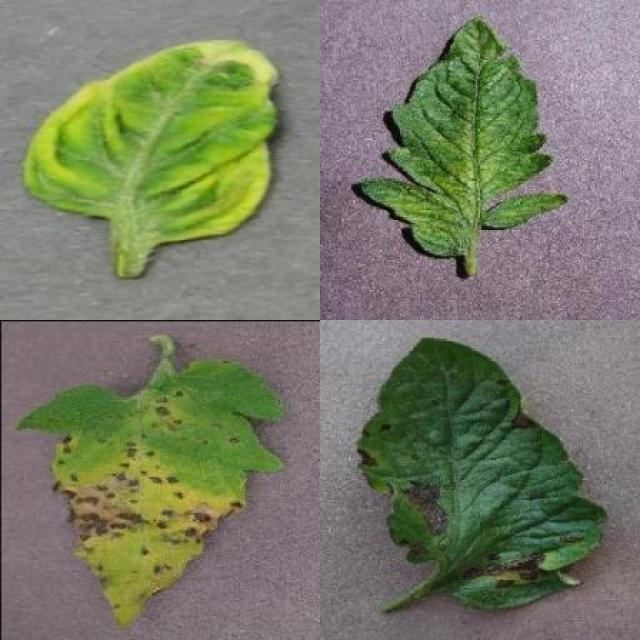Early Blight: (358, 336, 608, 614)
Mosaic Virus: (360, 15, 570, 258)
Septoria: (12, 357, 289, 630)
Yellow Leaf Curl Virus: (25, 37, 278, 247)
